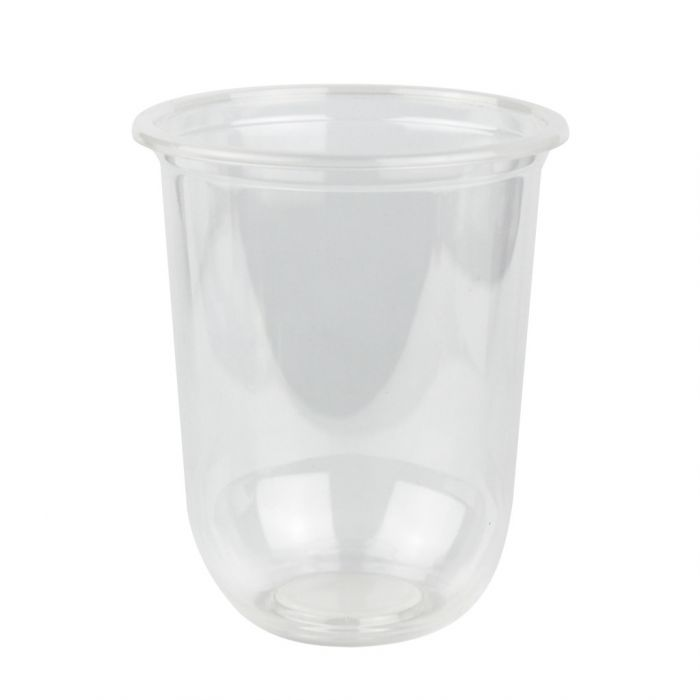plastic_glass: (126, 78, 573, 654)
